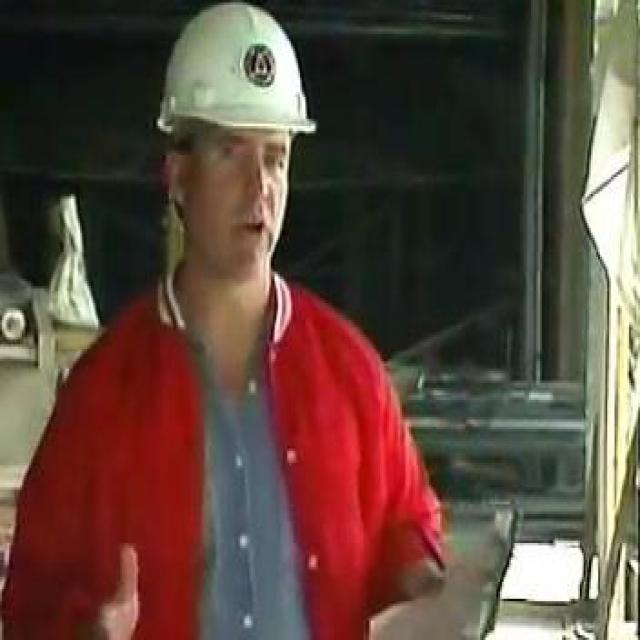Safety-Helmet: (144, 1, 326, 160)
